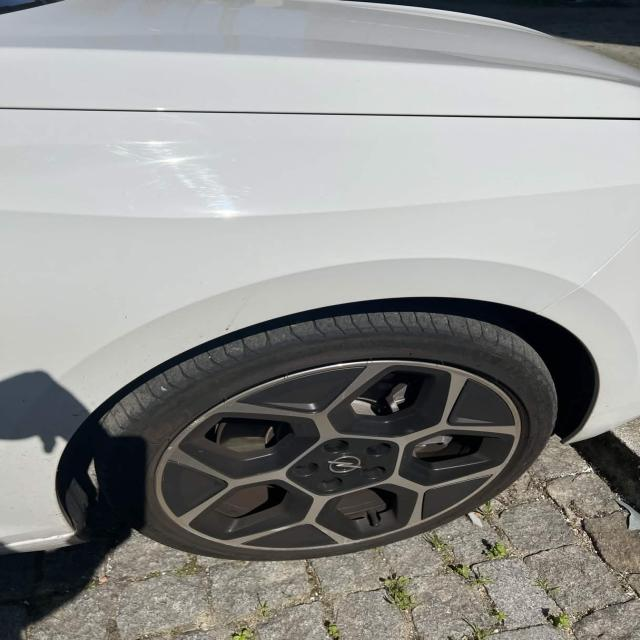jante: (152, 358, 524, 551)
parafuso: (317, 436, 351, 456), (290, 462, 321, 480), (322, 474, 347, 496), (366, 441, 390, 460), (364, 465, 386, 484)
roda: (94, 302, 561, 562)
